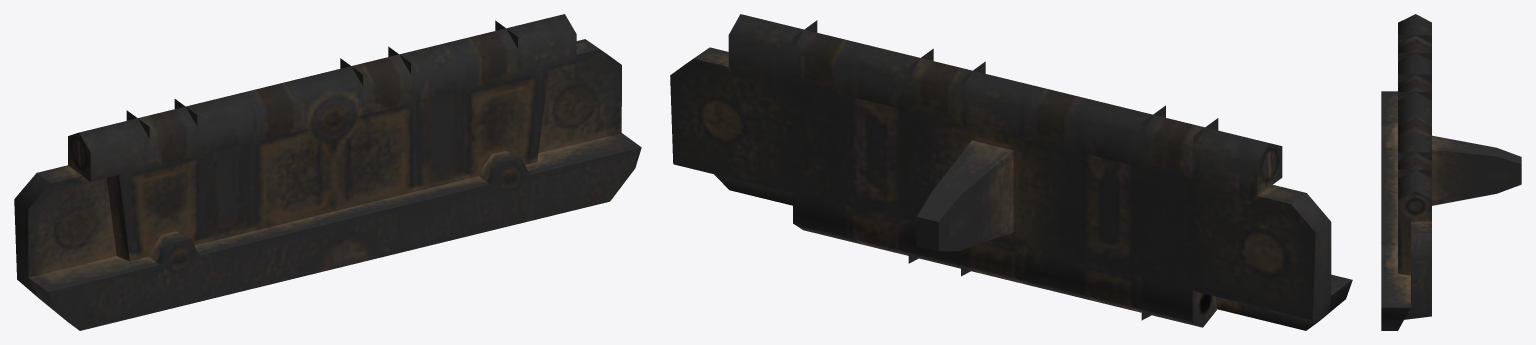
3 views of the same model, side by side, from view 1: azimuth 30°, elevation 25°; view 2: azimuth 150°, elevation 25°; view 3: azimuth 270°, elevation 25° (orthographic). The views are drawn at different scales.
Parts seen in each view (by area): view 1: set_0_group_0; view 2: set_0_group_0; view 3: set_0_group_0.
Boxes of the visible parts, box(x1,y1,x2,y2) form: set_0_group_0: box(14, 14, 641, 330); set_0_group_0: box(670, 14, 1352, 330); set_0_group_0: box(1381, 14, 1521, 330).
Bounding box in the file's own units: 0.6007 × 0.18 × 0.1649.
Materials: 1 (1 with a texture image).
